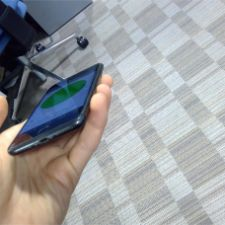focus: (35, 78, 87, 111)
